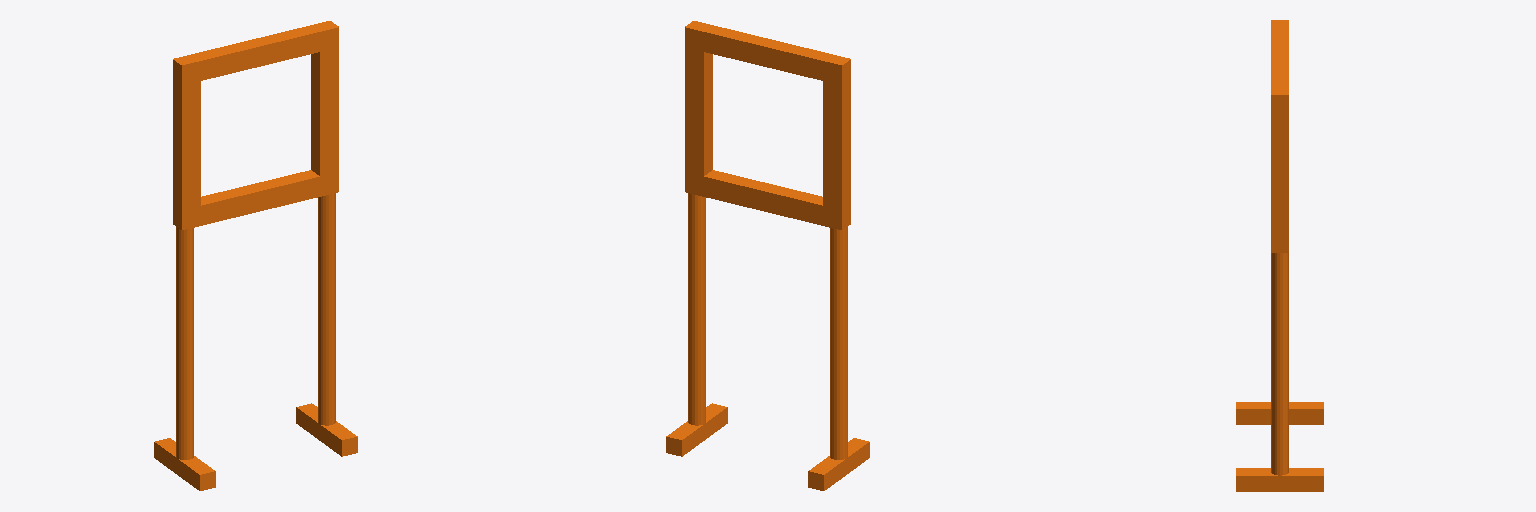
robot.urdf — gate_tall:
<?xml version="1.0" ?>
<robot name="gate_tall">

    <material name = "heritage-orange">
        <color rgba = "0.96078 0.50980 0.11764 1" />
    </material>
    
    <link name="gate">
        <visual>
            <origin rpy="0 0 0" xyz="0 0 0"/>
            <geometry>
                <mesh filename="gate_tall.stl" scale="8 8 8"/>
            </geometry>
            <material name = "heritage-orange"/>
        </visual>
        <collision concave="yes">
            <origin rpy="0 0 0" xyz="0 0 0"/>
            <geometry>
                <mesh filename="gate_tall.stl" scale="8 8 8"/>
            </geometry>
        </collision>
        <inertial>
            <origin rpy="0 0 0" xyz="0 0 0"/>
            <mass value="0"/>
            <inertia ixx="0" ixy="0" ixz="0" iyy="0" iyz="0" izz="0"/>
        </inertial>
    </link>

</robot>

--- Render facts (derived) ---
The picture shows the robot from 3 angles, left to right: view 1: azimuth 30°, elevation 25°; view 2: azimuth 150°, elevation 25°; view 3: azimuth 270°, elevation 25°; orthographic projection.
Model gate_tall with 1 links and 0 joints (none), rooted at gate, posed all joints at 0.
Links seen in each view (by area): view 1: gate; view 2: gate; view 3: gate.
Link boxes in pixels (bbox=[...]): gate: bbox=[154, 21, 357, 490]; gate: bbox=[666, 21, 869, 490]; gate: bbox=[1236, 20, 1323, 491].
Bounding box of the posed robot: 8 × 4 × 20 m (x, y, z).
1 mesh visuals loaded from 1 distinct referenced files (1 binary STL).